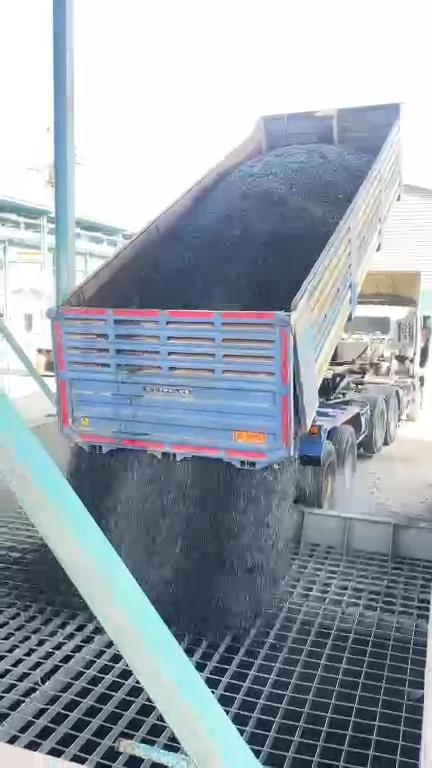gravel: (92, 145, 371, 309), (92, 145, 370, 309), (69, 447, 294, 635), (70, 448, 294, 633), (6, 545, 86, 610)
